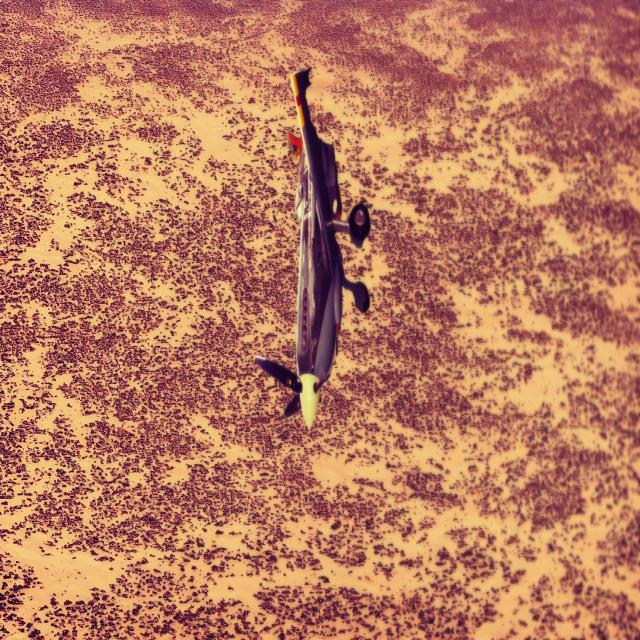airplane: (254, 67, 371, 431)
